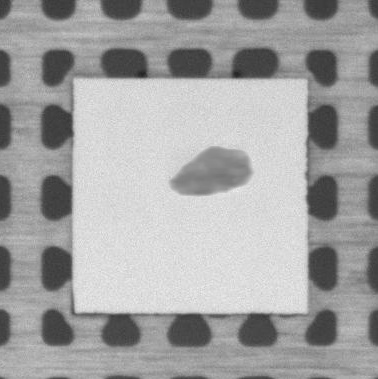DIE_INK: (168, 147, 252, 197)
